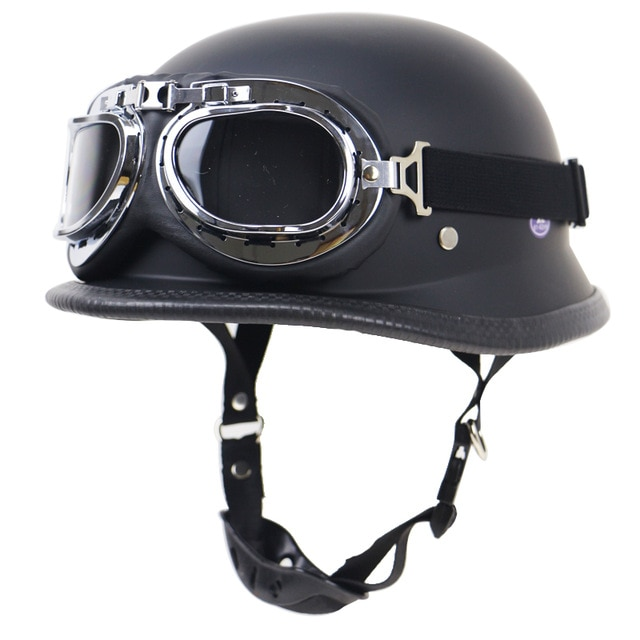with_helmet: (42, 11, 611, 357)
